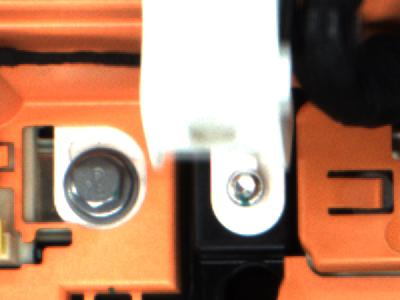nut_b: (63, 145, 148, 224)
screw_m: (227, 167, 269, 218)
